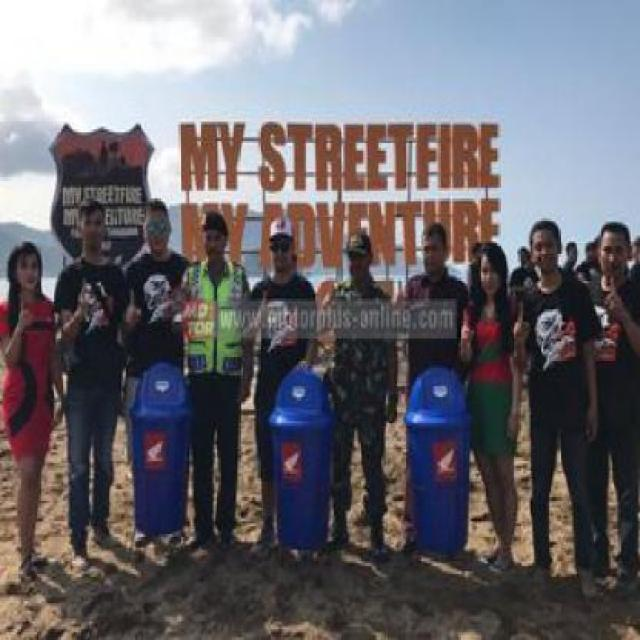garbage container: (263, 358, 342, 560), (399, 363, 478, 565), (129, 360, 197, 540)
